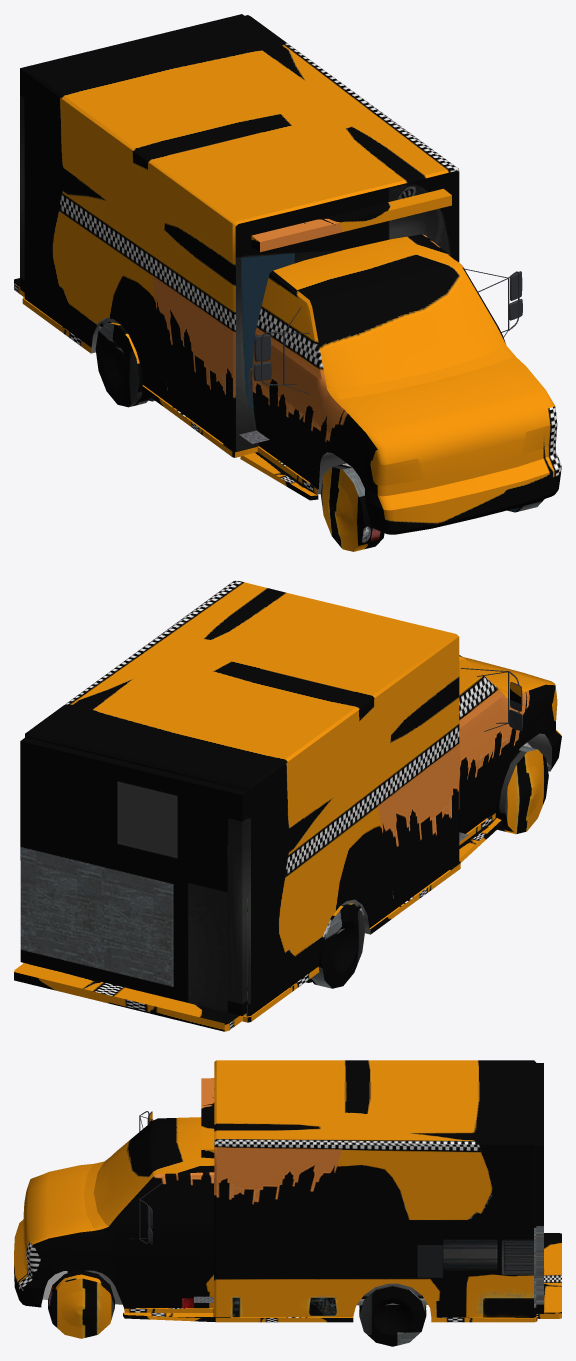
File: Bank_Vehicle.fbx
The picture shows the model from 3 angles, top to bottom: view 1: azimuth 30°, elevation 25°; view 2: azimuth 150°, elevation 25°; view 3: azimuth 270°, elevation 25°; orthographic projection. The views are drawn at different scales.
Visible parts, largest first — view 1: Bank_Vehicle, Wheel_FR, Wheel_BR, BackDoor_Right; view 2: Bank_Vehicle, BackDoor_Right, BackDoor_Left, Wheel_FR, Wheel_BR; view 3: Bank_Vehicle, Wheel_FL, Wheel_BL, BackDoor_Left, Bank_Vehicle_Interior.
Boxes of the visible parts, <box> form: Bank_Vehicle: <box>14,15,561,534</box>; Wheel_FR: <box>320,463,384,551</box>; Wheel_BR: <box>95,321,154,407</box>; BackDoor_Right: <box>20,41,132,292</box>; Bank_Vehicle: <box>14,580,561,1031</box>; BackDoor_Right: <box>131,764,247,1015</box>; BackDoor_Left: <box>20,737,135,988</box>; Wheel_FR: <box>495,746,548,834</box>; Wheel_BR: <box>306,903,365,988</box>; Bank_Vehicle: <box>14,1060,561,1322</box>; Wheel_FL: <box>48,1270,114,1338</box>; Wheel_BL: <box>359,1285,426,1346</box>; BackDoor_Left: <box>536,1104,543,1313</box>; Bank_Vehicle_Interior: <box>194,1283,427,1305</box>.
Size of the model in its own units: 926 by 879 by 2145.
